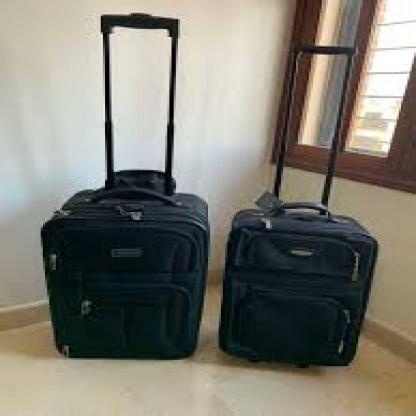maleta: (28, 165, 210, 368), (206, 188, 375, 377)
